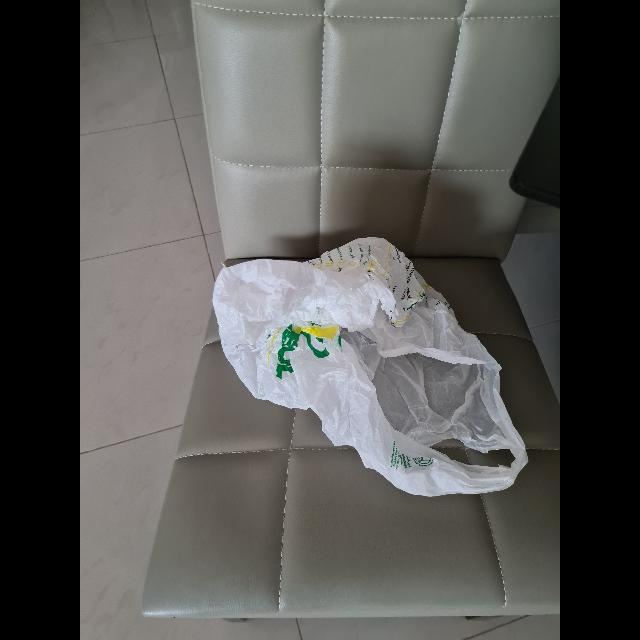plastic_bag: (203, 213, 535, 522)
